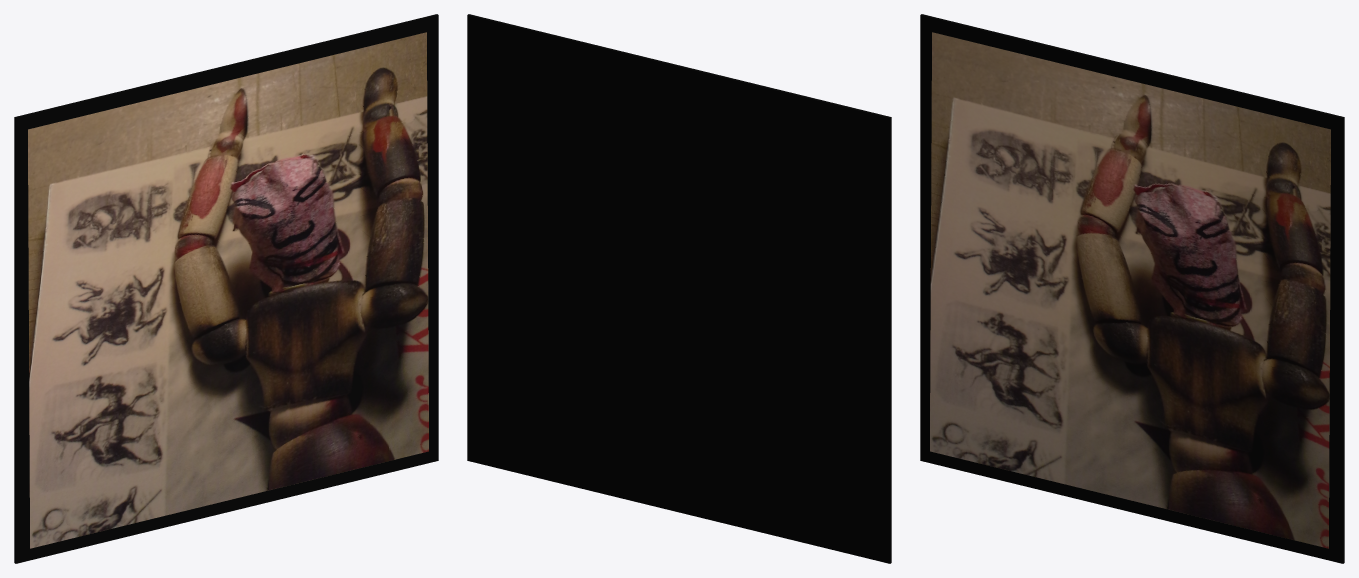
The model's file is PaintingB.fbx.
3 views of the same model, side by side, from view 1: azimuth 30°, elevation 25°; view 2: azimuth 150°, elevation 25°; view 3: azimuth 330°, elevation 25° (orthographic).
Visible parts, largest first — view 1: polySurface2; view 2: polySurface2; view 3: polySurface2.
Boxes of the visible parts, x1=… form: polySurface2: x1=14, y1=14, x2=438, y2=563; polySurface2: x1=467, y1=14, x2=891, y2=563; polySurface2: x1=920, y1=14, x2=1344, y2=563.
Bounding box in the file's own units: 11.7 × 11.78 × 0.1867.
Materials: 2 (1 with a texture image).
